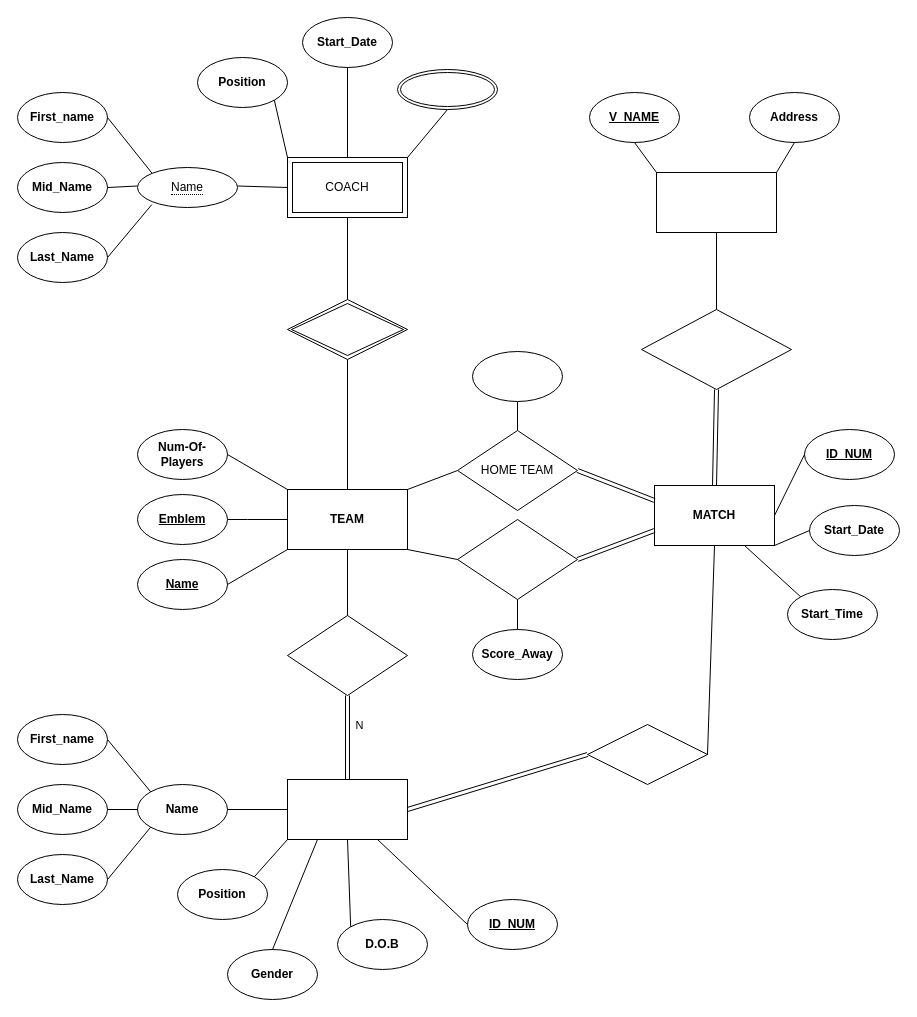
Some shapes in this 917 by 1017 pixel diagram are drawn without their labels. The shapes that lost their labels are listed below. From the top down, each one's box as (x1, y1, x2, y2) in pixels, then its label:
(396, 68, 498, 110): Position History
(656, 172, 776, 232): VENUE
(286, 298, 408, 360): COACHES
(640, 308, 792, 390): PLAYED AT
(472, 350, 562, 402): Score_Home
(456, 518, 578, 600): AWAY TEAM
(286, 614, 408, 696): PLAYS_FOR
(586, 724, 708, 784): PLAYS
(286, 778, 408, 840): PLAYER
